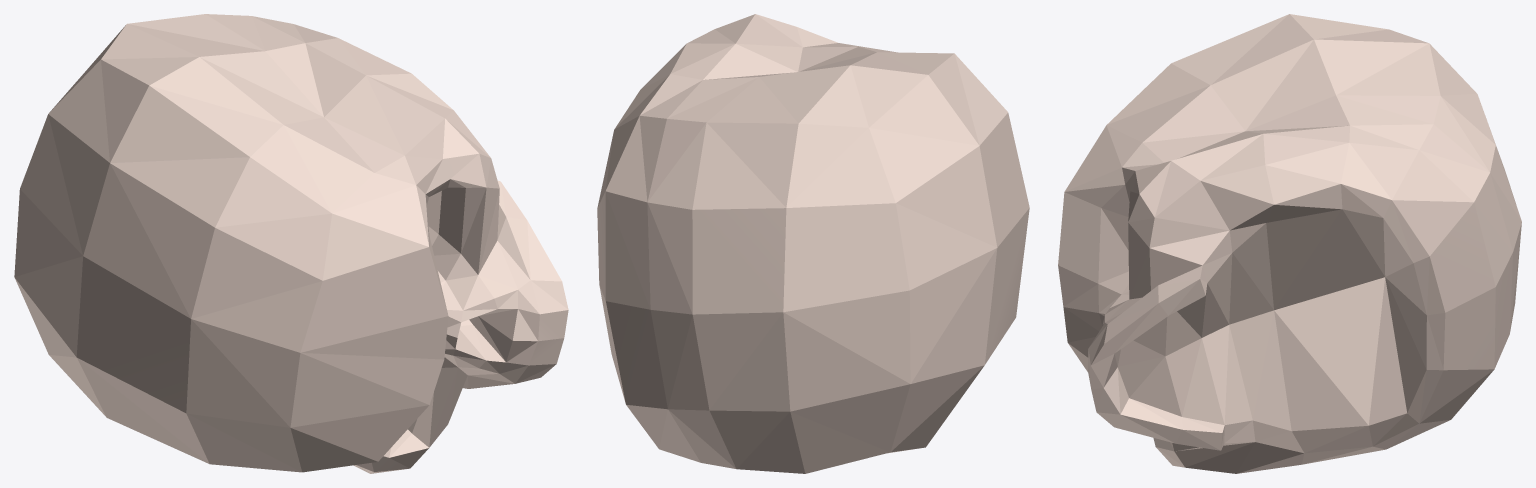
The model's file is deadSkelly_head.fbx.
3 renders of one model, left to right at view 1: azimuth 30°, elevation 25°; view 2: azimuth 150°, elevation 25°; view 3: azimuth 270°, elevation 25°, orthographic. The views are drawn at different scales.
Visible parts, largest first — view 1: deadSkelly_head; view 2: deadSkelly_head; view 3: deadSkelly_head.
Part boxes in pixels (box(x1,y1,x2,y2)): deadSkelly_head: box(14, 14, 568, 473); deadSkelly_head: box(597, 14, 1029, 473); deadSkelly_head: box(1058, 14, 1521, 473).
Size of the model in its own units: 0.4407 by 0.4471 by 0.4971.
